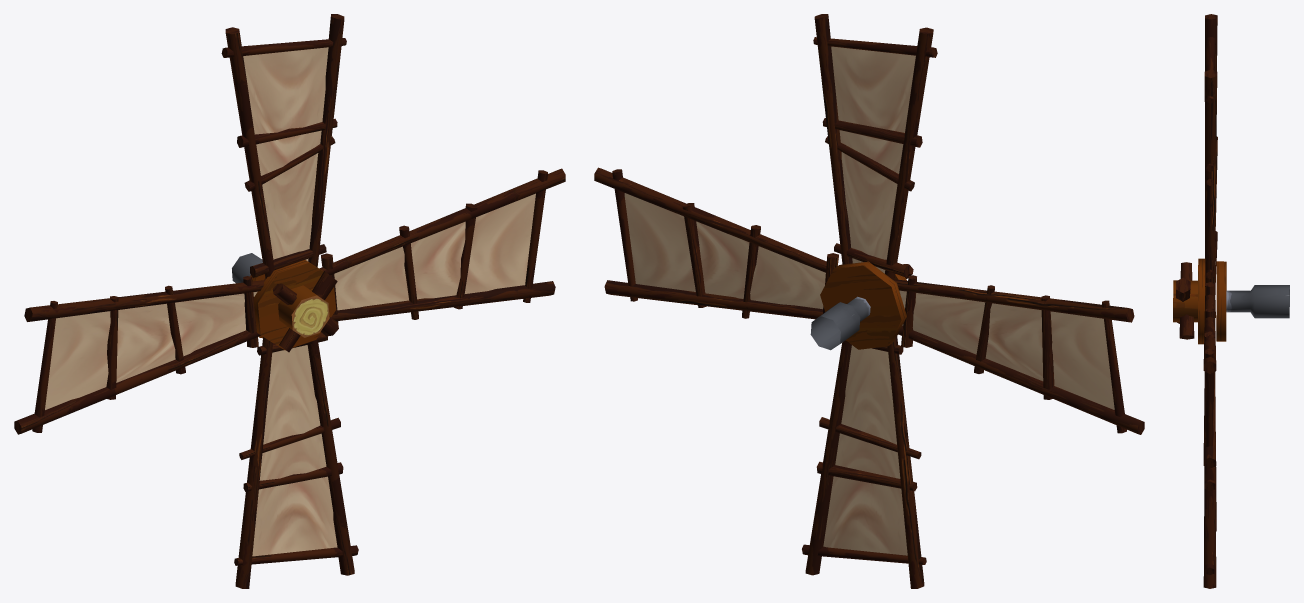
File: SM_BLD_windmill_sail.glb
3 renders of one model, left to right at view 1: azimuth 30°, elevation 25°; view 2: azimuth 150°, elevation 25°; view 3: azimuth 270°, elevation 25°, orthographic. The views are drawn at different scales.
Parts seen in each view (by area): view 1: SM_BLD_windmill_sail_EXPORT; view 2: SM_BLD_windmill_sail_EXPORT; view 3: SM_BLD_windmill_sail_EXPORT.
Boxes of the visible parts, box(x1,y1,x2,y2) form: SM_BLD_windmill_sail_EXPORT: box(14, 14, 565, 588); SM_BLD_windmill_sail_EXPORT: box(594, 14, 1144, 588); SM_BLD_windmill_sail_EXPORT: box(1173, 14, 1289, 588).
Size of the model in its own units: 17.07 by 17.07 by 3.48.
5 materials, 5 textured.
